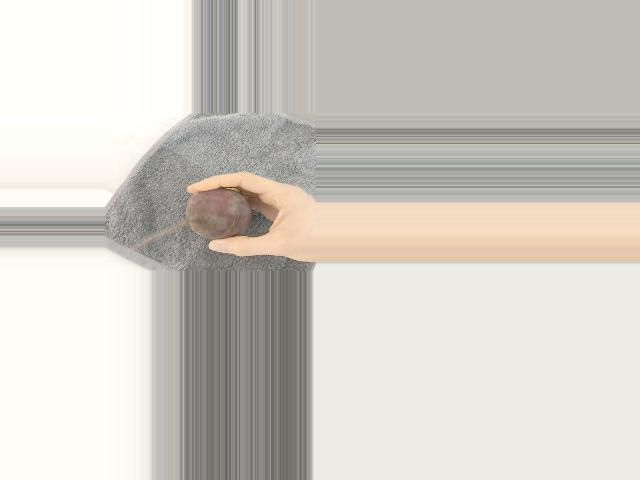beet: (186, 188, 251, 239)
